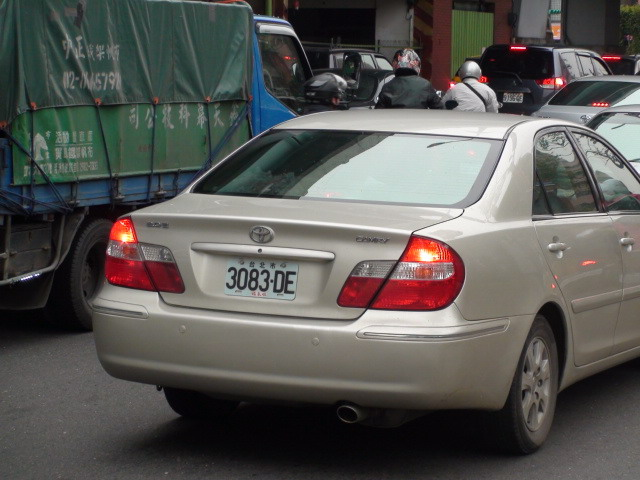plate: (223, 257, 301, 299)
